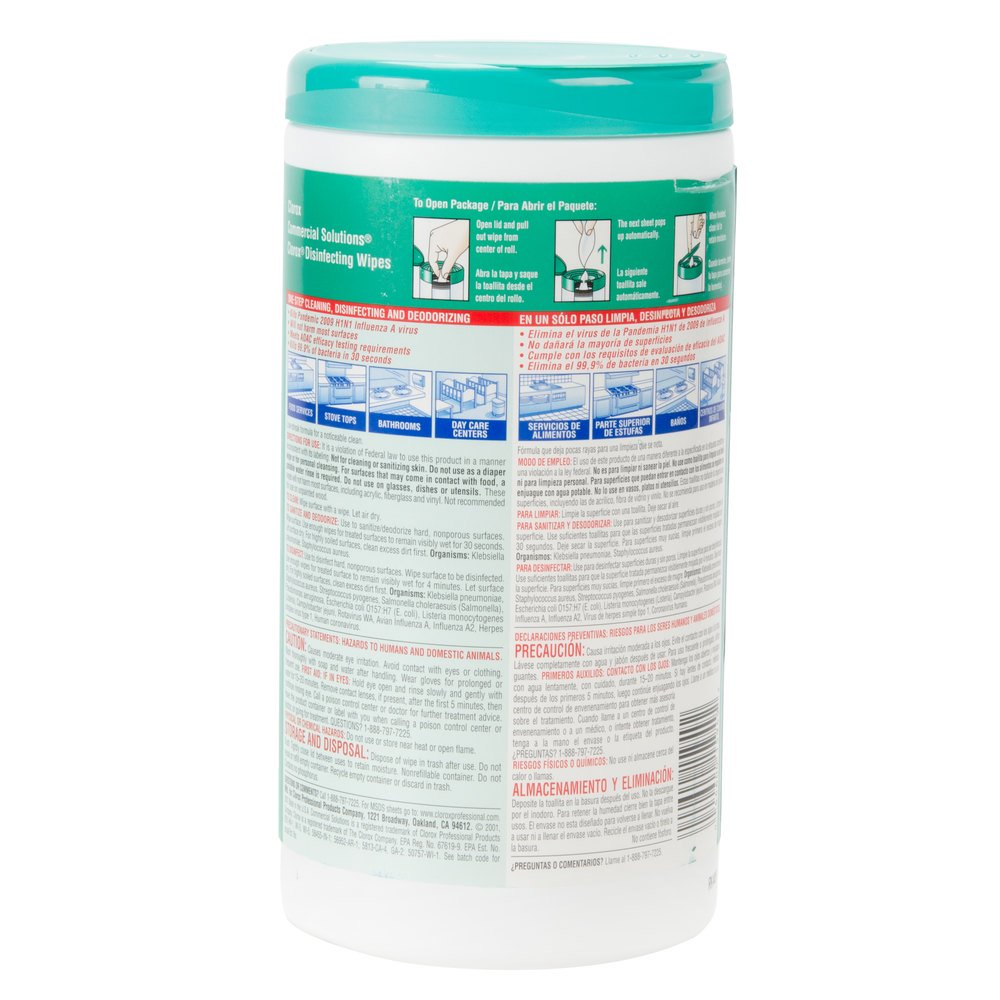Wipes: (273, 32, 744, 974)
